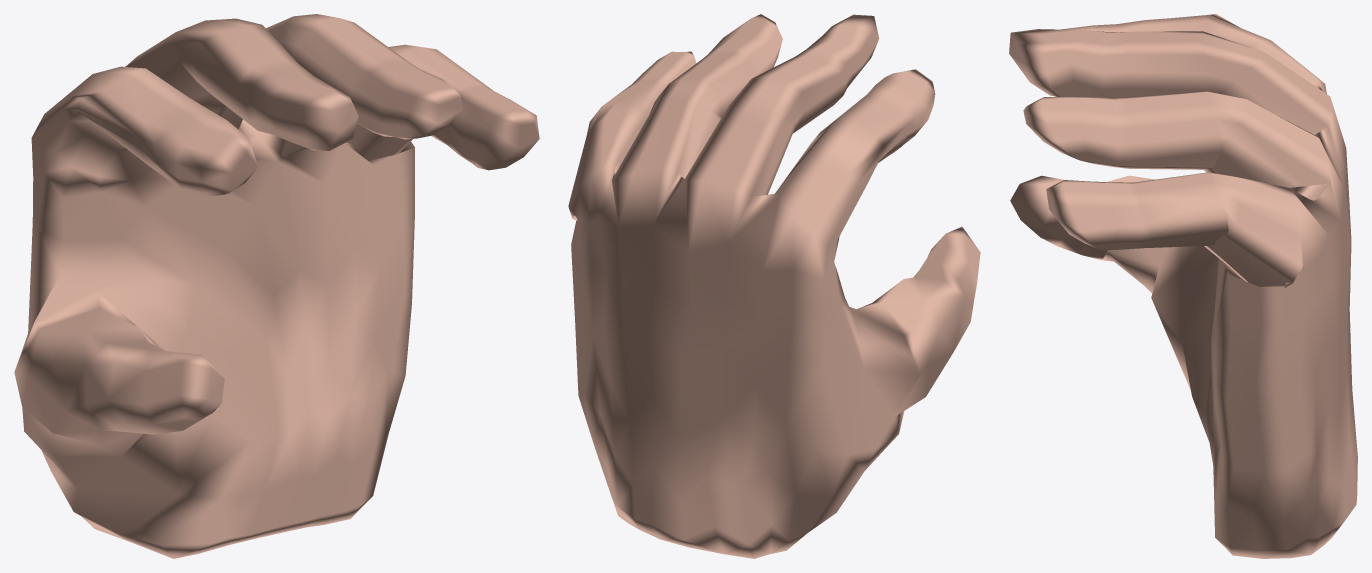
Rendered from C_AFASTADO.obj.
3 views of the same model, side by side, from view 1: azimuth 30°, elevation 25°; view 2: azimuth 150°, elevation 25°; view 3: azimuth 270°, elevation 25° (orthographic). The views are drawn at different scales.
Visible parts, largest first — view 1: mao_dir polySurface1; view 2: mao_dir polySurface1; view 3: mao_dir polySurface1.
Boxes of the visible parts, x1,y1,x2,y2 form: mao_dir polySurface1: (14, 14, 539, 558); mao_dir polySurface1: (568, 14, 980, 558); mao_dir polySurface1: (1009, 14, 1357, 558).
Bounding box in the file's own units: 144 × 171 × 116.
